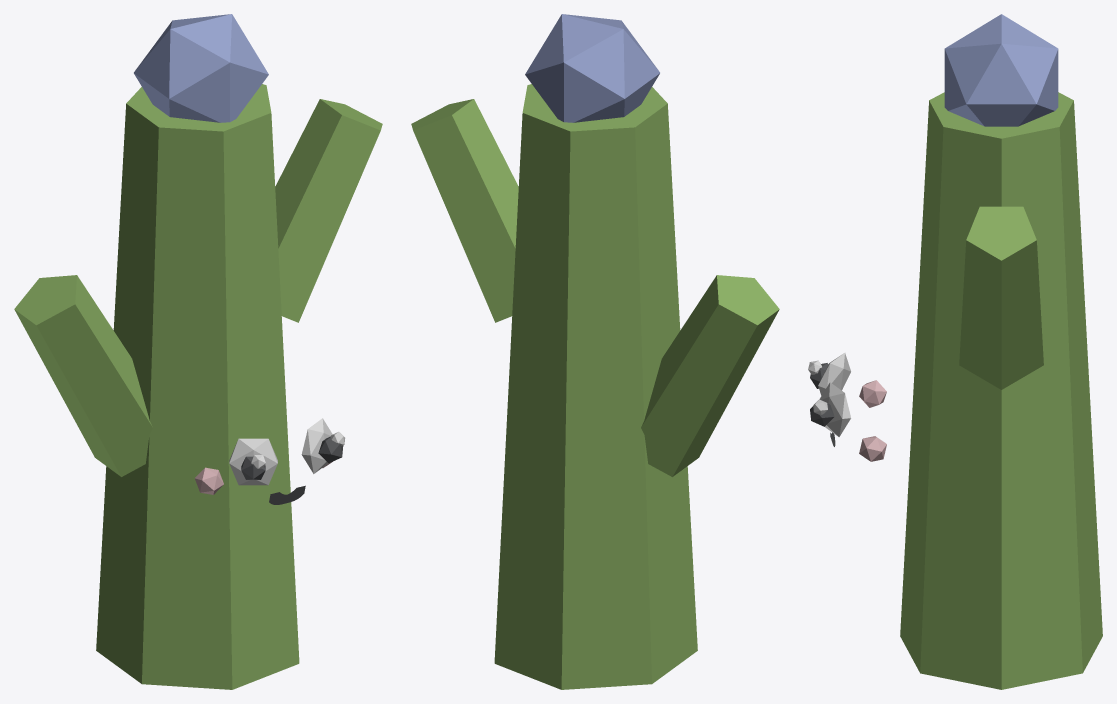
File: opuntia-ficus-indica.glb
3 renders of one model, left to right at view 1: azimuth 30°, elevation 25°; view 2: azimuth 150°, elevation 25°; view 3: azimuth 270°, elevation 25°, orthographic.
Parts seen in each view (by area): view 1: column, arm0, arm1, bloom, pface-eye-r, pface-eye-l, pface-blush--1; view 2: column, arm0, arm1, bloom; view 3: column, arm1, bloom, pface-eye-l, pface-eye-r, pface-blush-1, pface-blush--1.
Part boxes in pixels (box(x1,y1,x2,y2)): column: box(96, 84, 299, 689); arm0: box(14, 275, 152, 476); arm1: box(275, 99, 382, 322); bloom: box(134, 14, 268, 122); pface-eye-r: box(229, 438, 277, 485); pface-eye-l: box(301, 418, 332, 473); pface-blush--1: box(194, 467, 223, 494); column: box(494, 84, 697, 689); arm0: box(641, 275, 779, 476); arm1: box(411, 99, 518, 322); bloom: box(525, 14, 659, 122); column: box(900, 92, 1102, 689); arm1: box(959, 206, 1043, 389); bloom: box(944, 14, 1058, 126); pface-eye-l: box(820, 382, 850, 436); pface-eye-r: box(818, 353, 850, 395); pface-blush-1: box(859, 436, 886, 461); pface-blush--1: box(859, 380, 886, 407).
Bounding box in the file's own units: 0.2739 × 0.4583 × 0.1985.
